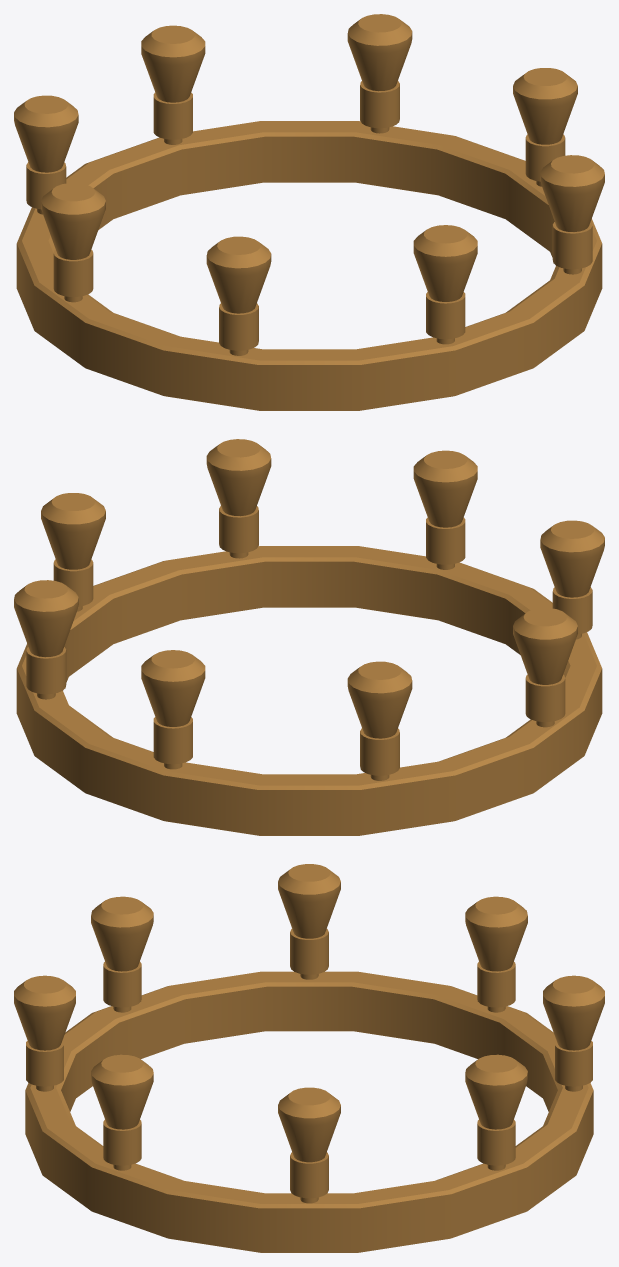
File: Chandelier.FBX
3 renders of one model, top to bottom at view 1: azimuth 30°, elevation 25°; view 2: azimuth 150°, elevation 25°; view 3: azimuth 270°, elevation 25°, orthographic. The views are drawn at different scales.
Parts seen in each view (by area): view 1: Chandelier; view 2: Chandelier; view 3: Chandelier.
Boxes of the visible parts, box(x1,y1,x2,y2) form: Chandelier: box(14, 14, 604, 410); Chandelier: box(14, 439, 604, 835); Chandelier: box(14, 864, 604, 1252).
Bounding box in the file's own units: 235 × 66.61 × 235.
